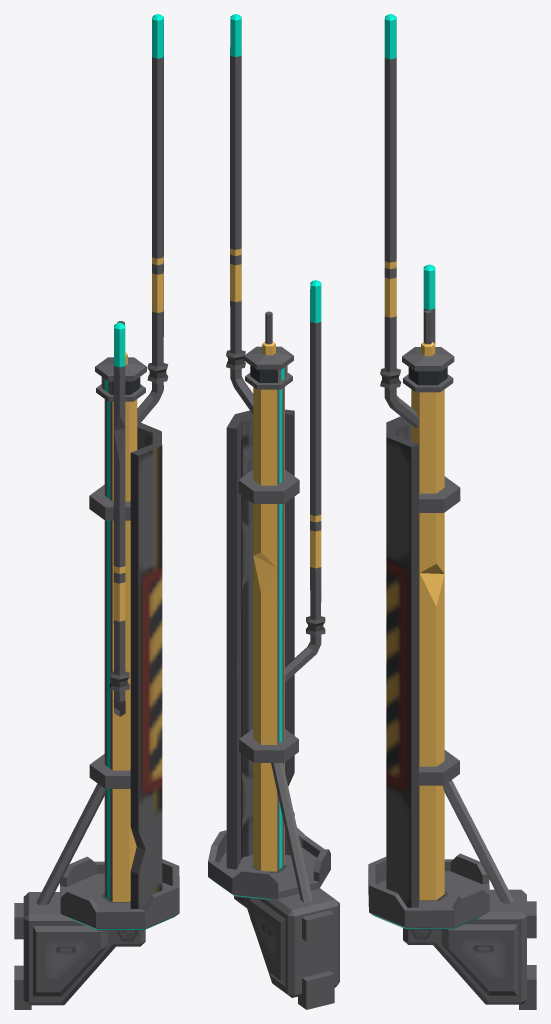
The model's file is SM_Prop_Antenna_02.fbx.
The picture shows the model from 3 angles, left to right: view 1: azimuth 90°, elevation 25°; view 2: azimuth 210°, elevation 25°; view 3: azimuth 270°, elevation 25°; orthographic projection. The views are drawn at different scales.
Parts seen in each view (by area): view 1: SM_Prop_Antenna_02; view 2: SM_Prop_Antenna_02; view 3: SM_Prop_Antenna_02.
Part boxes in pixels (x1,y1,x2,y2): SM_Prop_Antenna_02: (14, 14, 179, 1009); SM_Prop_Antenna_02: (208, 14, 339, 1009); SM_Prop_Antenna_02: (368, 14, 536, 1009).
Bounding box in the file's own units: 67.02 × 573 × 87.76.
